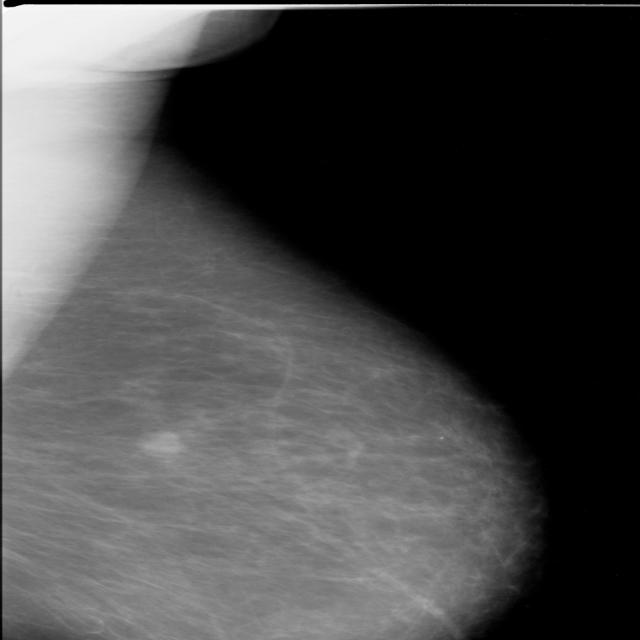normal: (0, 61, 558, 640)
